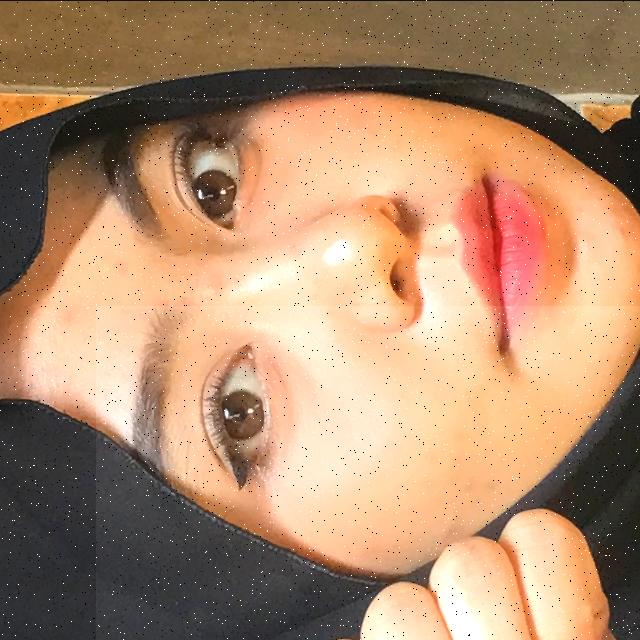sedih: (96, 305, 640, 640)
